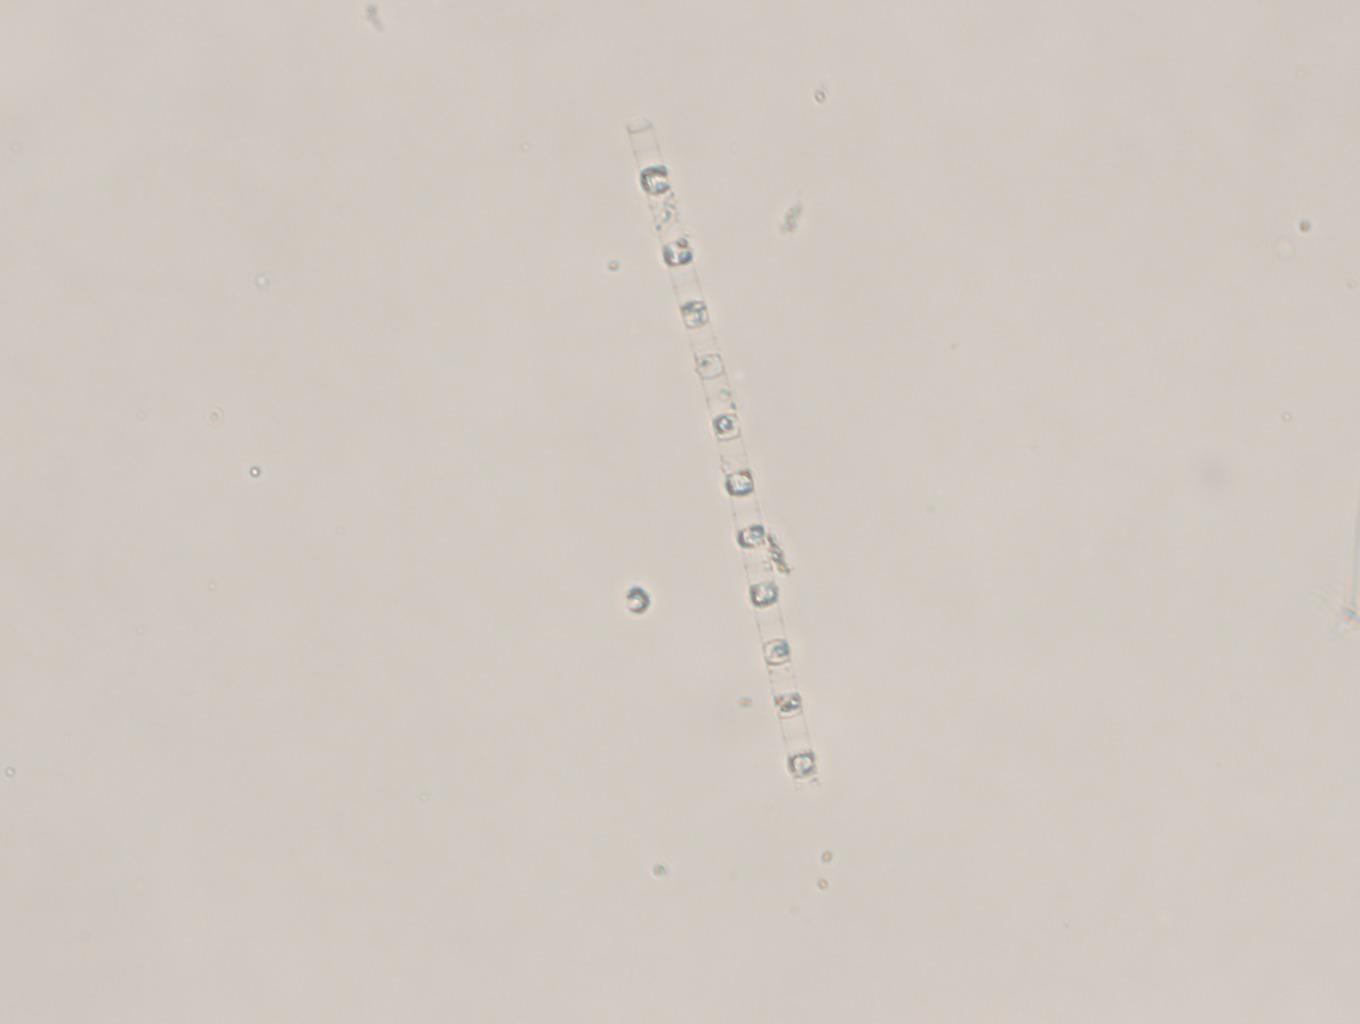skeletonema: (618, 109, 833, 797)
